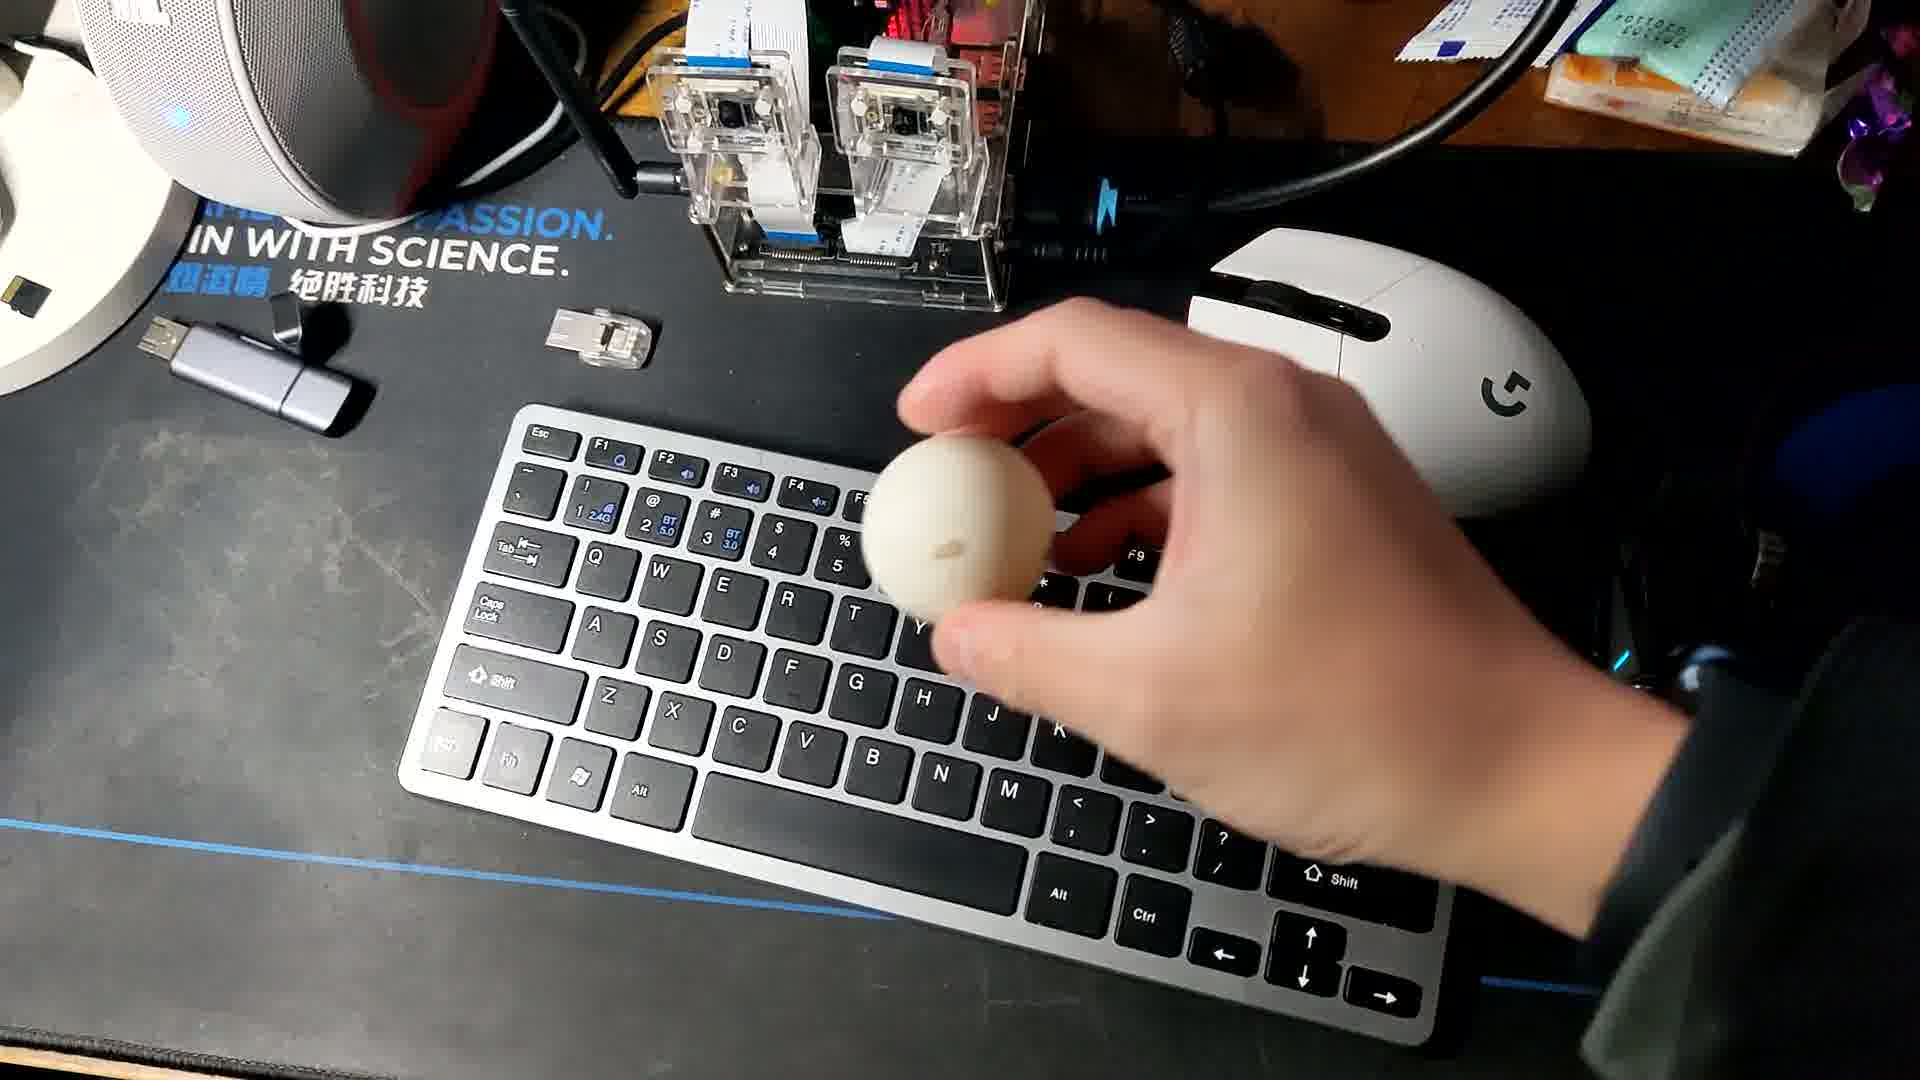Ball: (858, 433, 1055, 632)
